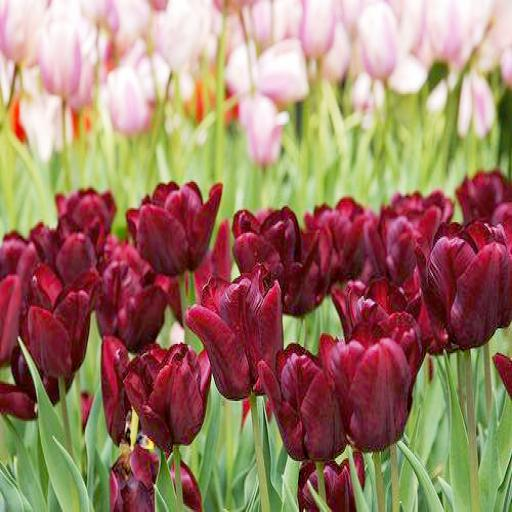tulip: (320, 313, 425, 449), (187, 267, 285, 398), (420, 217, 511, 344), (258, 346, 346, 461), (120, 347, 212, 443), (131, 180, 225, 268)
